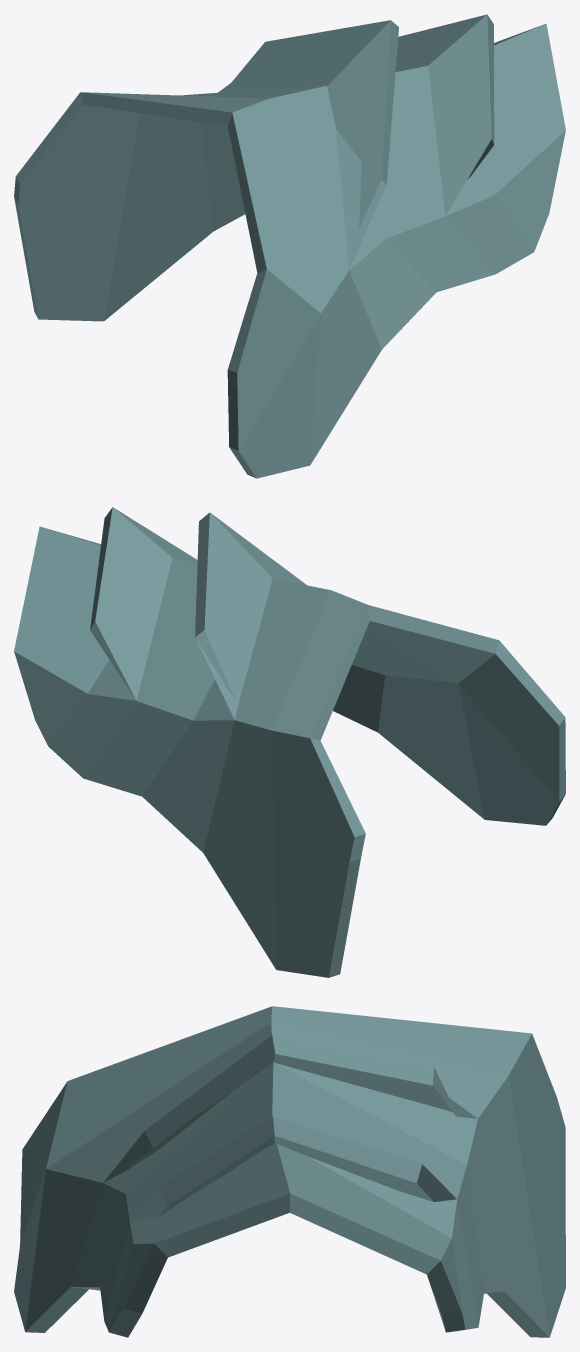
The model's file is FBX_Pauldron_Mithril.fbx.
The picture shows the model from 3 angles, top to bottom: view 1: azimuth 30°, elevation 25°; view 2: azimuth 150°, elevation 25°; view 3: azimuth 270°, elevation 25°; orthographic projection. The views are drawn at different scales.
Visible parts, largest first — view 1: Pauldron.001; view 2: Pauldron.001; view 3: Pauldron.001.
Boxes of the visible parts, x1,y1,x2,y2 form: Pauldron.001: [14, 14, 565, 478]; Pauldron.001: [14, 507, 565, 977]; Pauldron.001: [14, 1006, 565, 1337].
Bounding box in the file's own units: 0.3044 × 0.2263 × 0.2746.
